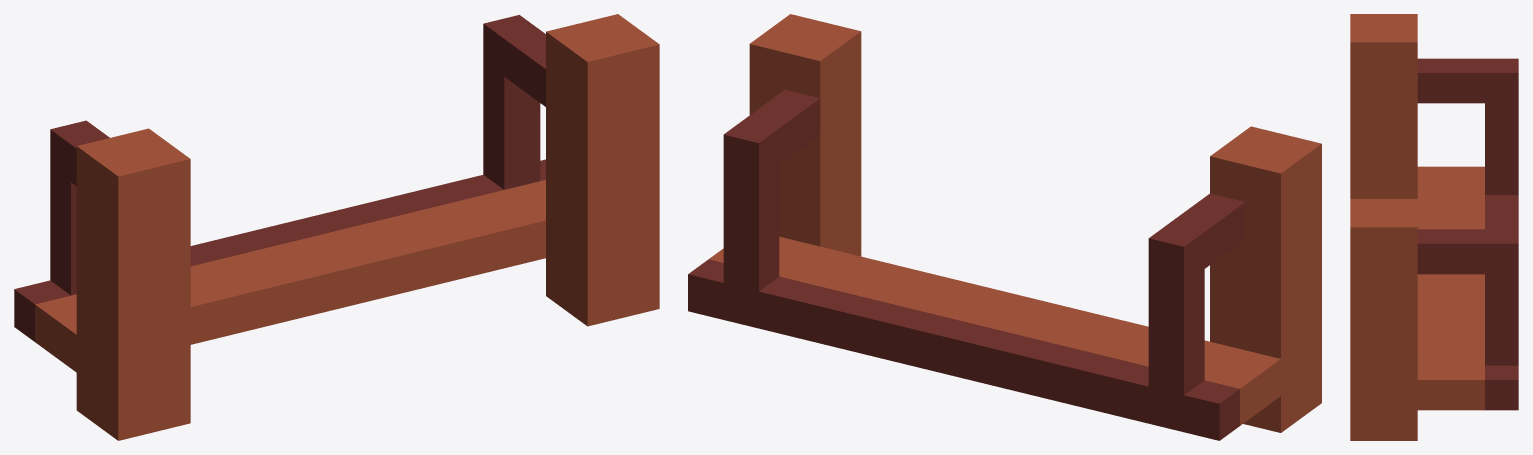
The model's file is bridge_a_start.obj.
The picture shows the model from 3 angles, left to right: view 1: azimuth 30°, elevation 25°; view 2: azimuth 150°, elevation 25°; view 3: azimuth 270°, elevation 25°; orthographic projection. The views are drawn at different scales.
Bounding box in the file's own units: 1.5 × 0.7 × 0.5.
Materials: 1 (1 with a texture image).
